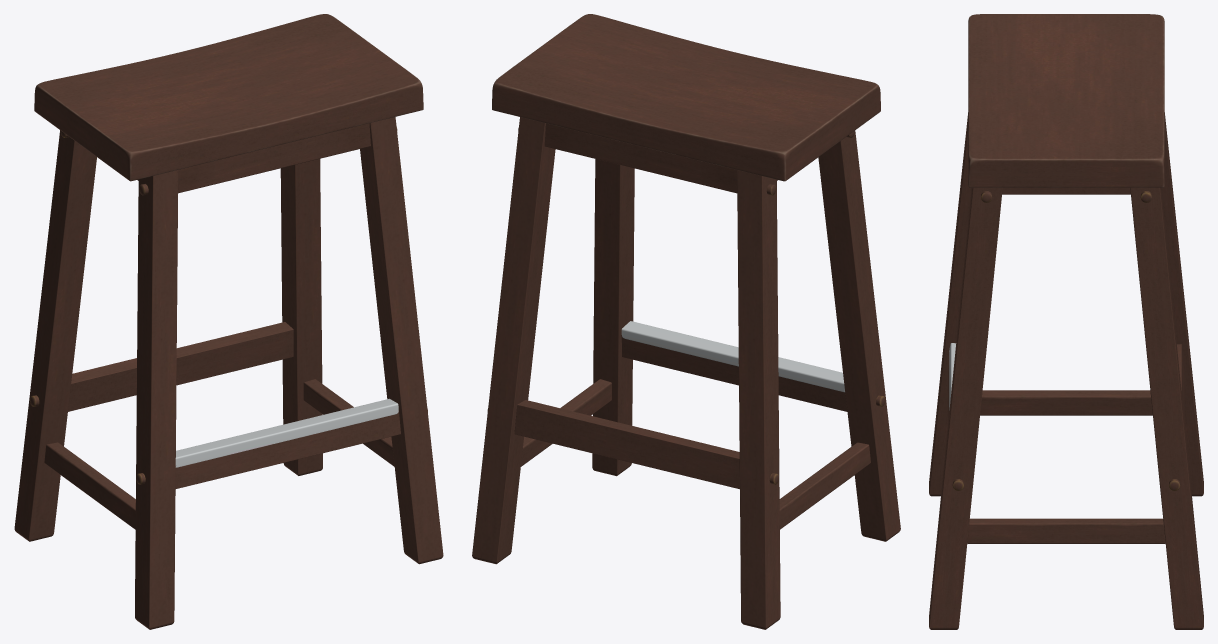
The model's file is stool_B07L6LL293.glb.
3 renders of one model, left to right at view 1: azimuth 30°, elevation 25°; view 2: azimuth 150°, elevation 25°; view 3: azimuth 270°, elevation 25°, orthographic.
Visible parts, largest first — view 1: RootNode; view 2: RootNode; view 3: RootNode.
Boxes of the visible parts, x1=… form: RootNode: x1=14, y1=14, x2=443, y2=629; RootNode: x1=472, y1=14, x2=900, y2=629; RootNode: x1=929, y1=14, x2=1203, y2=629.
Size of the model in its own units: 0.4056 by 0.6096 by 0.3221.
Materials: 1 (1 with a texture image).
